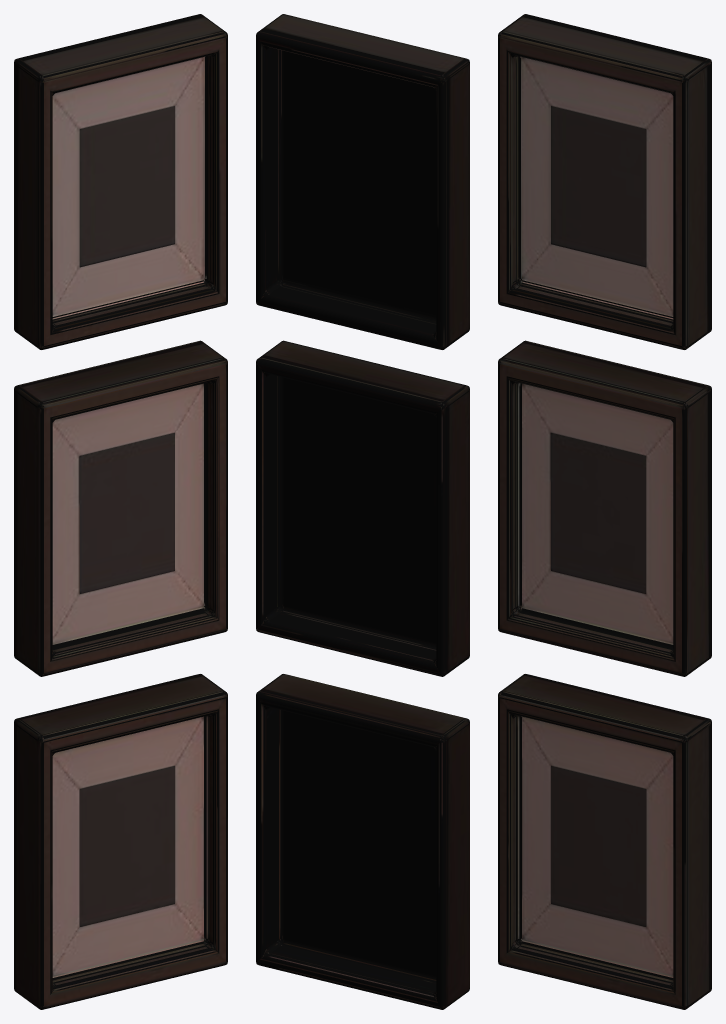
File: frames.glb
The picture shows the model from 3 angles, left to right: view 1: azimuth 30°, elevation 25°; view 2: azimuth 150°, elevation 25°; view 3: azimuth 330°, elevation 25°; orthographic projection.
Parts seen in each view (by area): view 1: frame; view 2: frame; view 3: frame.
Boxes of the visible parts, bbox=[...] form: frame: bbox=[14, 14, 227, 1009]; frame: bbox=[256, 14, 469, 1009]; frame: bbox=[498, 14, 711, 1009].
Size of the model in its own units: 0.235 by 1.11 by 0.06.
3 materials, 3 textured.
